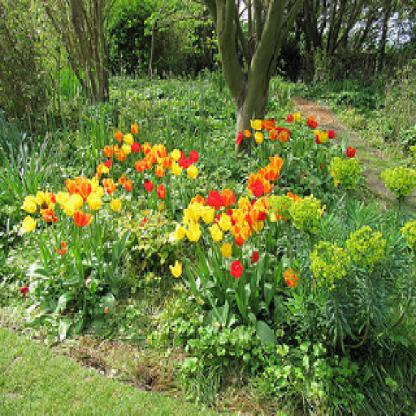TULIP: (30, 96, 357, 296)
